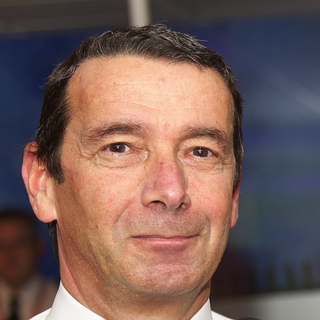eye: (179, 139, 224, 167), (94, 136, 141, 160)
